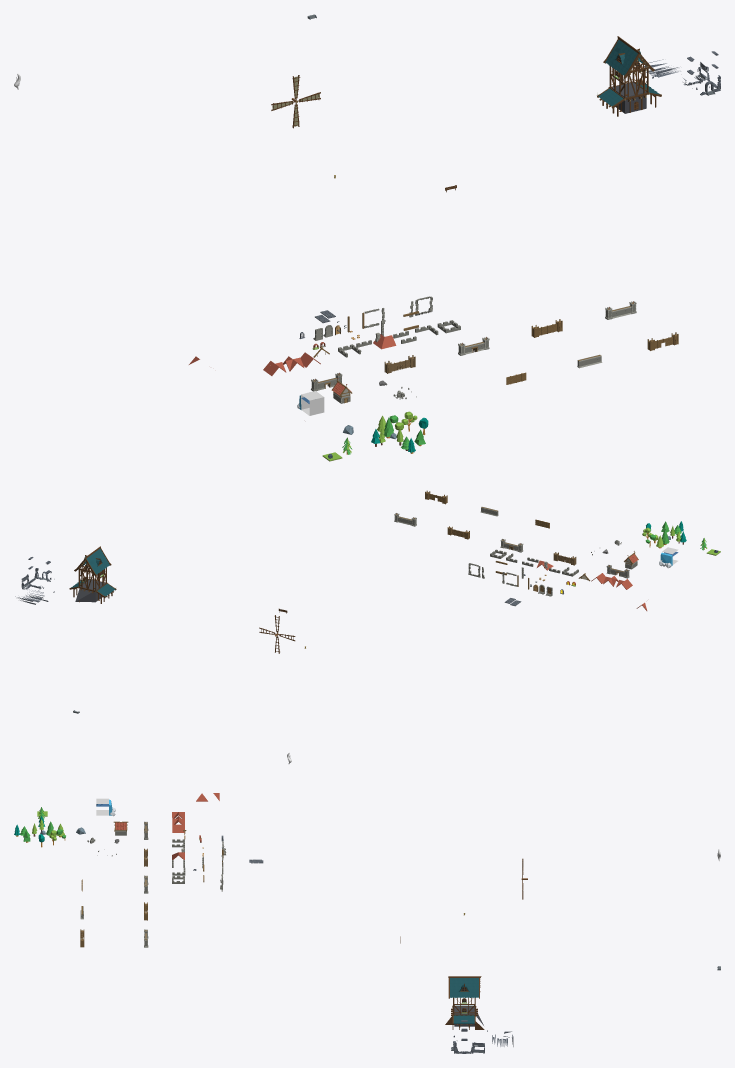
Rendered from block_decorations.glb.
3 renders of one model, top to bottom at view 1: azimuth 30°, elevation 25°; view 2: azimuth 150°, elevation 25°; view 3: azimuth 270°, elevation 25°, orthographic. The views are drawn at different scales.
Visible parts, largest first — view 1: Mill.004, Mill.001, Mill.003; view 2: Mill.004, Mill.001, Mill.003; view 3: Mill.001, Mill.004.
Boxes of the visible parts, x1,y1,x2,y2 form: Mill.004: [597, 36, 661, 116]; Mill.001: [598, 40, 659, 106]; Mill.003: [644, 51, 720, 95]; Mill.004: [69, 546, 116, 603]; Mill.001: [71, 549, 115, 596]; Mill.003: [15, 557, 54, 604]; Mill.001: [450, 978, 478, 1023]; Mill.004: [445, 976, 484, 1029].
Bounding box in the file's own units: 47.01 × 5.37 × 55.5.
